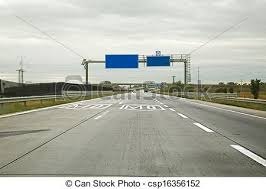strada: (0, 99, 262, 182)
